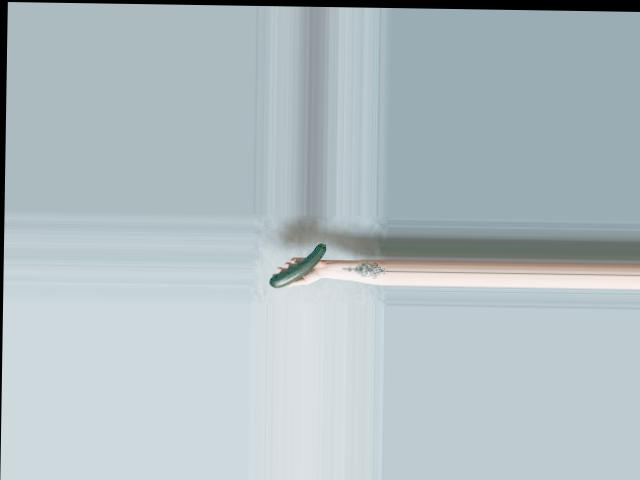cucumber: (269, 242, 325, 288)
